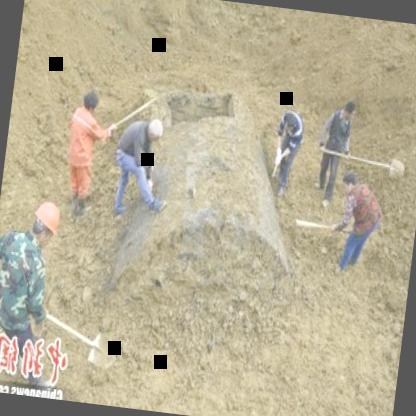helmet: (30, 198, 62, 249)
